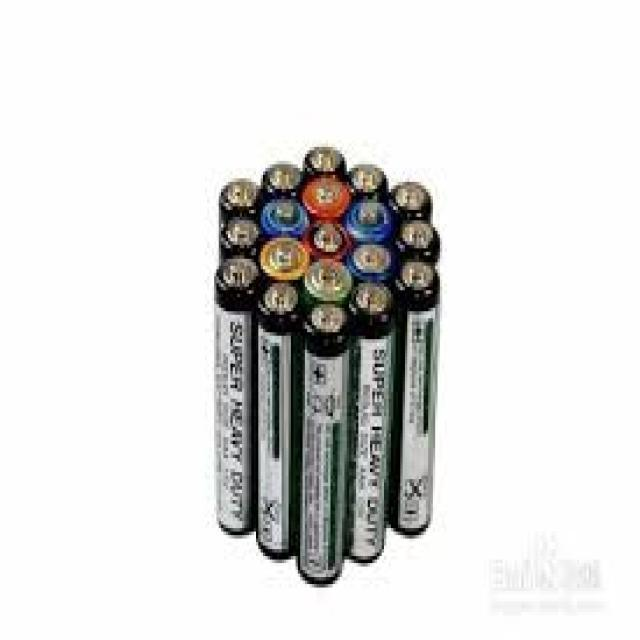Battery: (394, 264, 444, 549), (349, 278, 397, 563), (300, 310, 346, 588), (218, 247, 258, 536), (260, 285, 299, 569), (208, 162, 269, 217), (208, 209, 264, 260), (392, 220, 450, 264), (260, 238, 307, 287), (259, 190, 306, 238), (349, 194, 393, 245), (304, 256, 354, 300), (301, 220, 353, 261), (300, 140, 352, 180), (348, 239, 395, 282), (256, 158, 304, 200), (385, 180, 431, 222), (346, 150, 384, 195)
